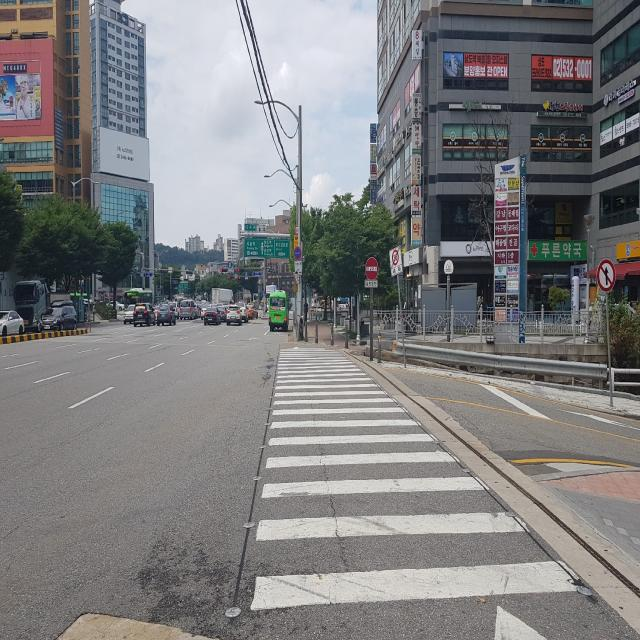횡단보도: (247, 343, 584, 640)
